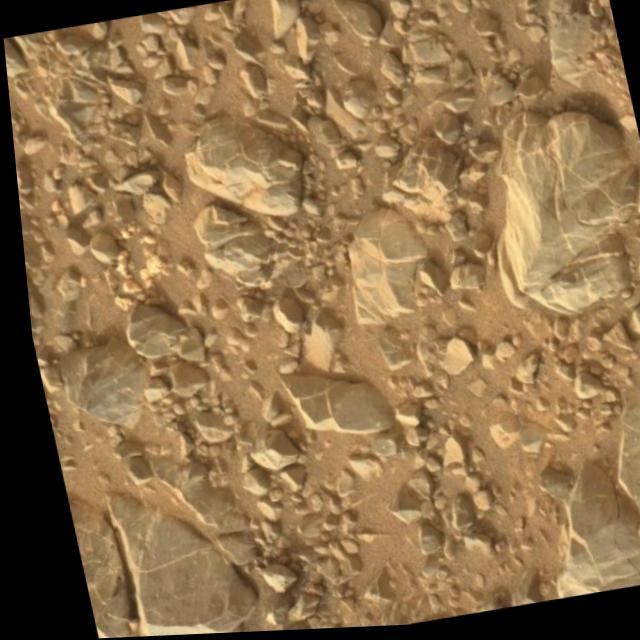mars-rocks: (499, 114, 633, 317), (98, 493, 243, 637), (545, 466, 640, 603), (181, 119, 297, 216), (57, 495, 121, 639), (343, 210, 421, 325), (51, 337, 138, 427), (271, 374, 384, 434), (609, 399, 640, 518)
